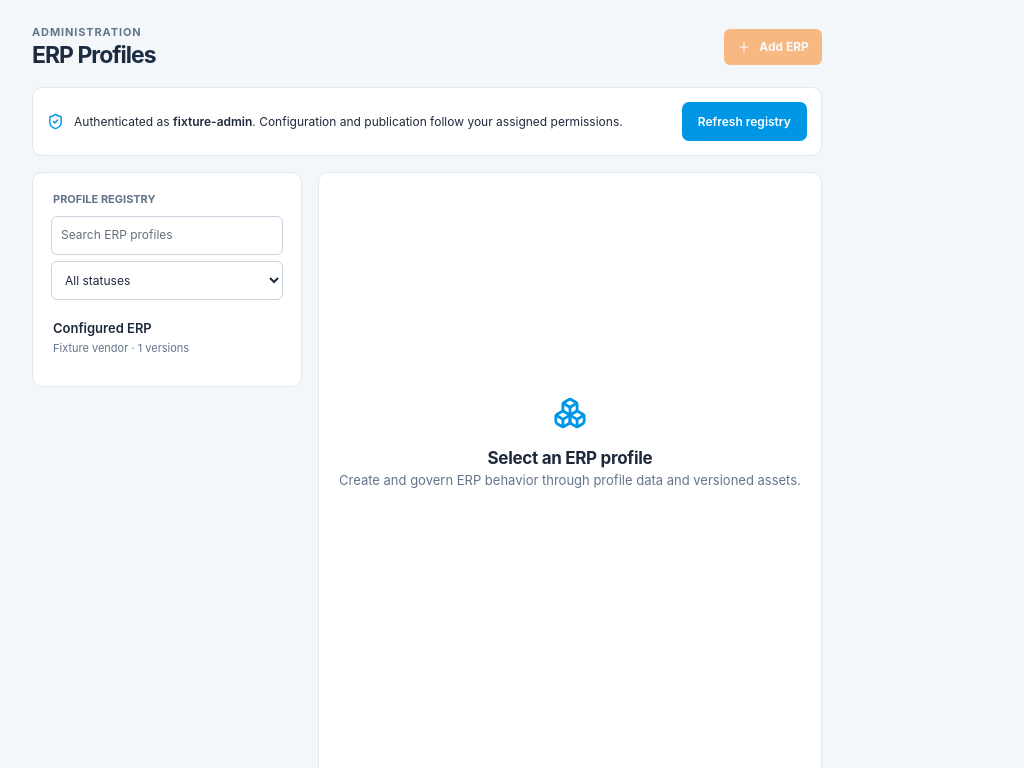
Test: ERP administration capability controls › allows publication but disables configuration for a publisher
Click the button "Configured ERP Fixture vendor · 1 versions": x=167, y=340 top-left (43, 308), bottom-right (291, 373)
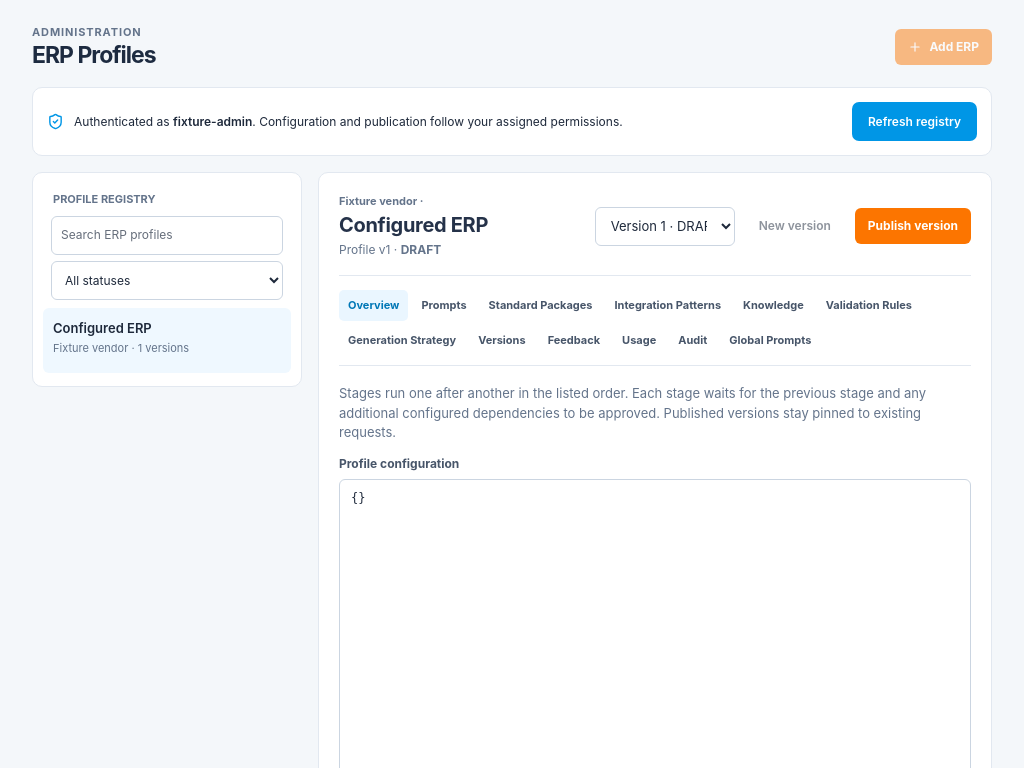
Expected: the button "Add ERP" is disabled, top-left (894, 29), bottom-right (992, 65)
Expected: the button "Publish version" is enabled, top-left (855, 208), bottom-right (971, 244)
